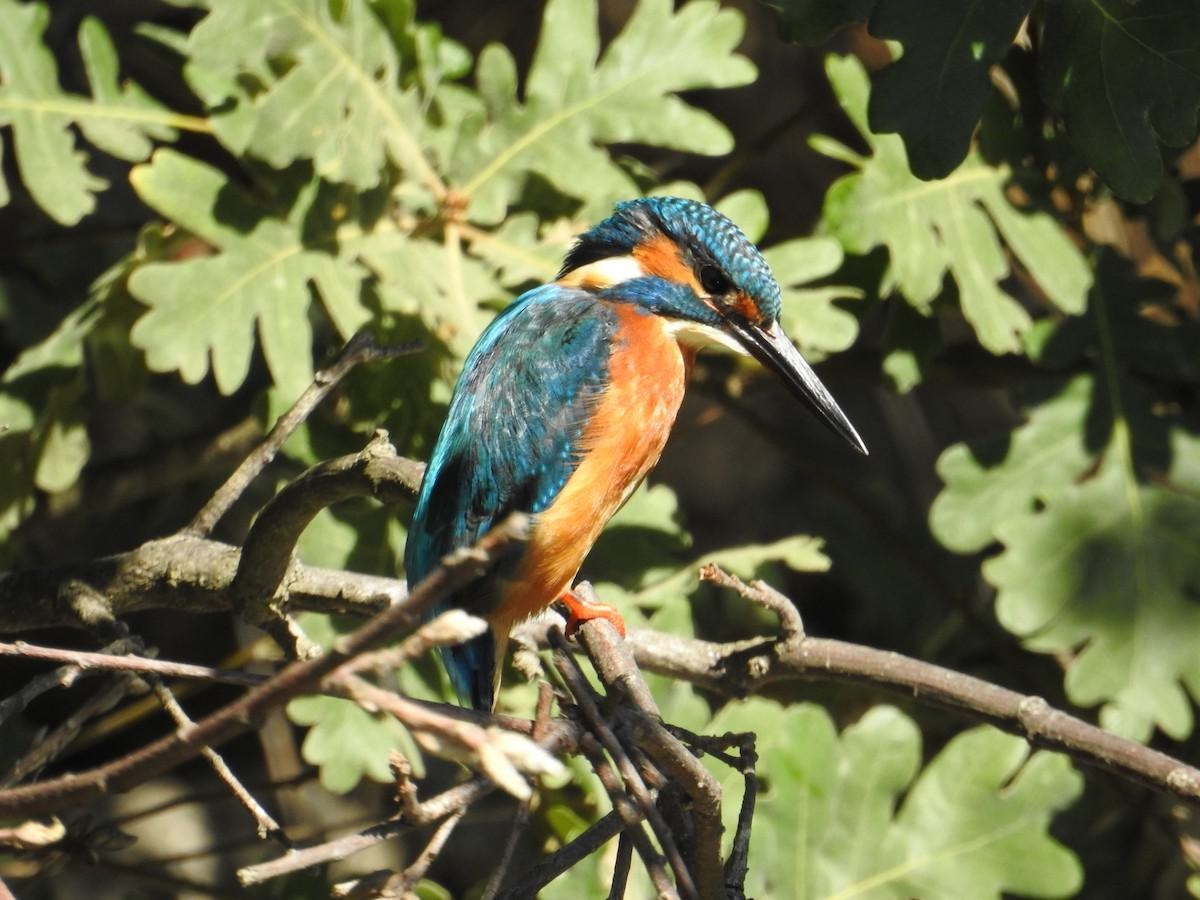kingfisher: (395, 187, 881, 741)
